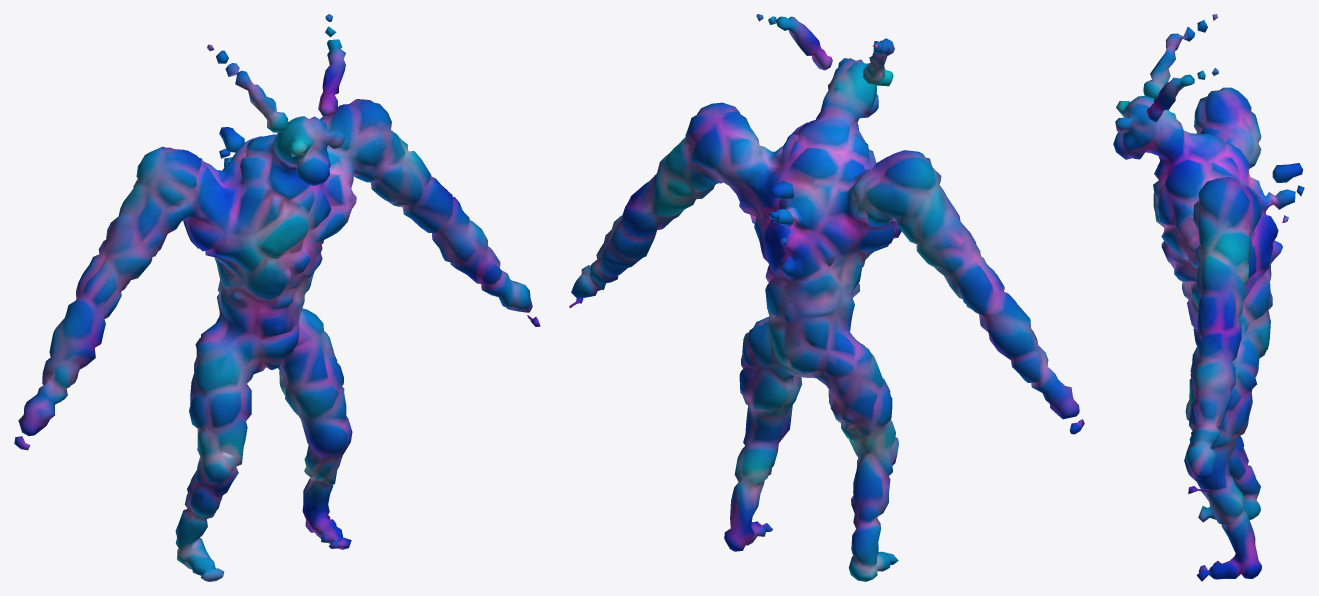
Rendered from wb_ash_fiend_lod1.glb.
3 views of the same model, side by side, from view 1: azimuth 30°, elevation 25°; view 2: azimuth 150°, elevation 25°; view 3: azimuth 270°, elevation 25° (orthographic). The views are drawn at different scales.
Visible parts, largest first — view 1: wb_ash_fiend; view 2: wb_ash_fiend; view 3: wb_ash_fiend.
Part boxes in pixels (x1,y1,x2,y2): wb_ash_fiend: [14, 14, 540, 581]; wb_ash_fiend: [569, 14, 1084, 581]; wb_ash_fiend: [1113, 14, 1304, 581].
Size of the model in its own units: 2.45 by 2.42 by 0.8261.
